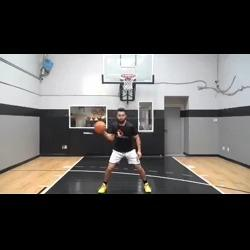BasketBall: (92, 120, 106, 134)
